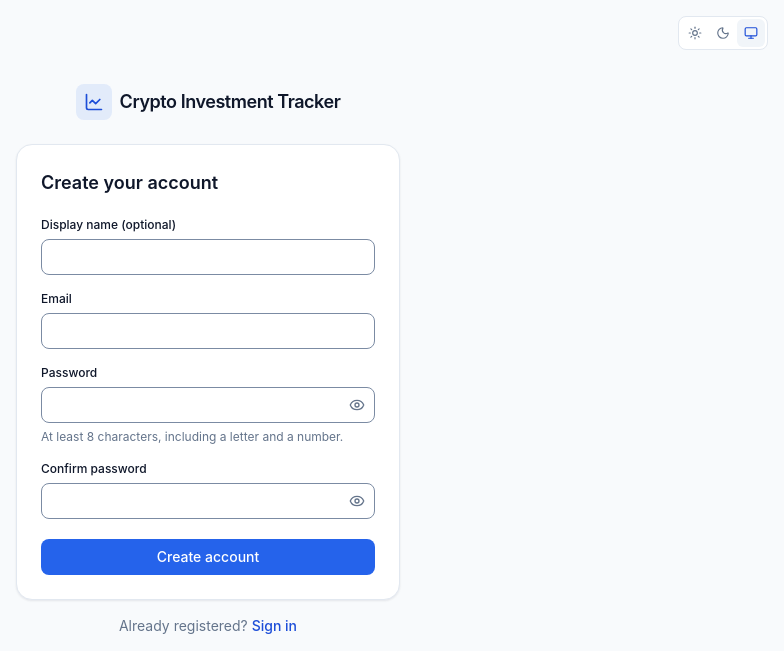
Test case: registration and password reset › registers and asks the user to confirm their email
This screenshot has width=784, height=651.
Type "new@example.com" into the field labelled "Email" at point(208, 331), box top-left (41, 313), bottom-right (375, 349)
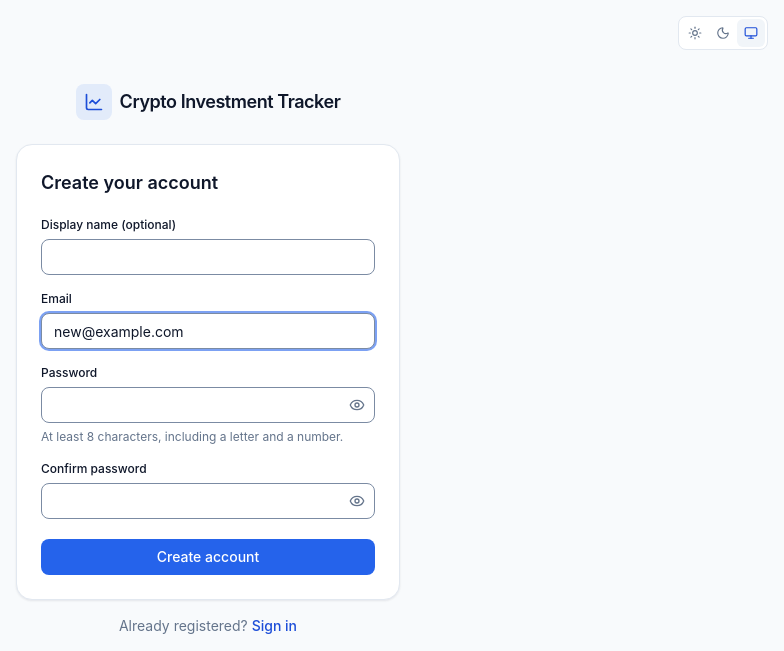
Type "abcdefg1" into the password field labelled "Password" at point(208, 405), box top-left (41, 387), bottom-right (375, 423)
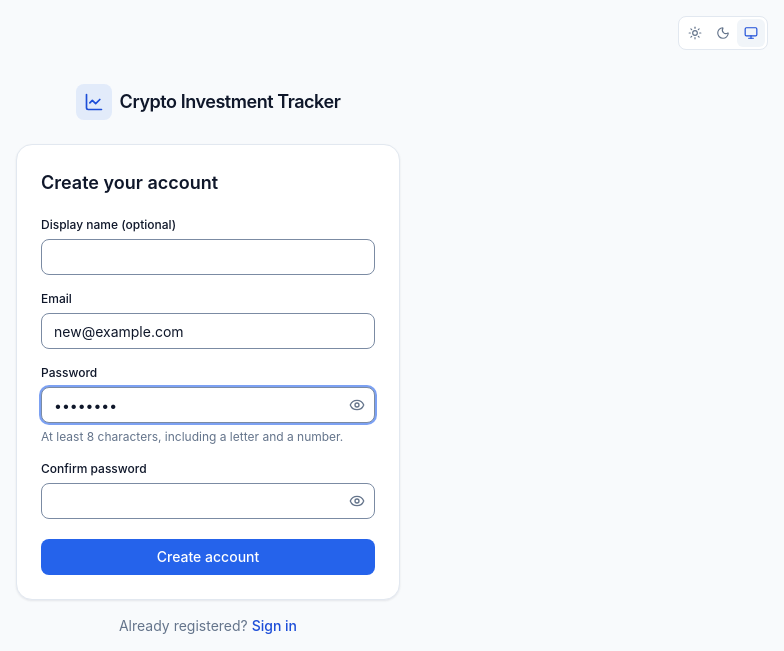
Type "abcdefg1" into the password field labelled "Confirm password" at point(208, 501), box top-left (41, 483), bottom-right (375, 519)
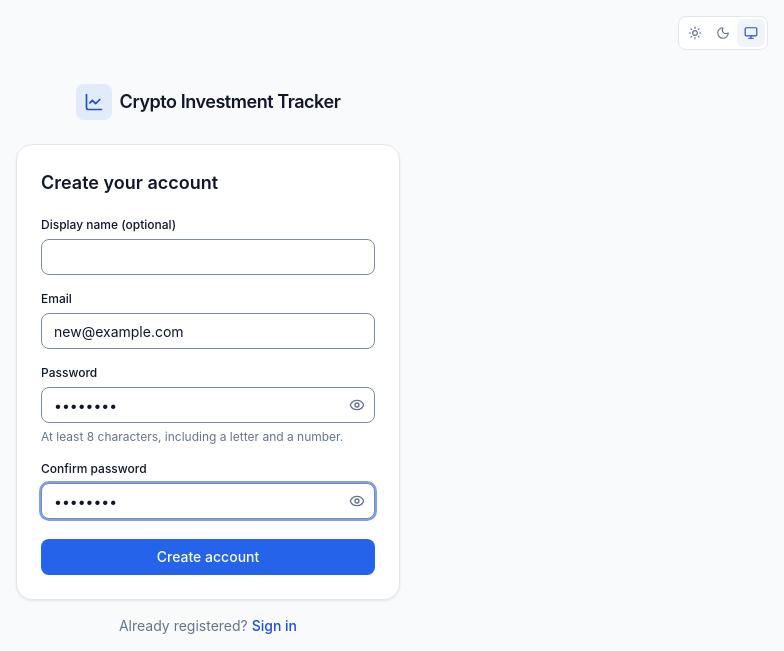
Click the button "Create account" at point(208, 557), box top-left (41, 539), bottom-right (375, 575)
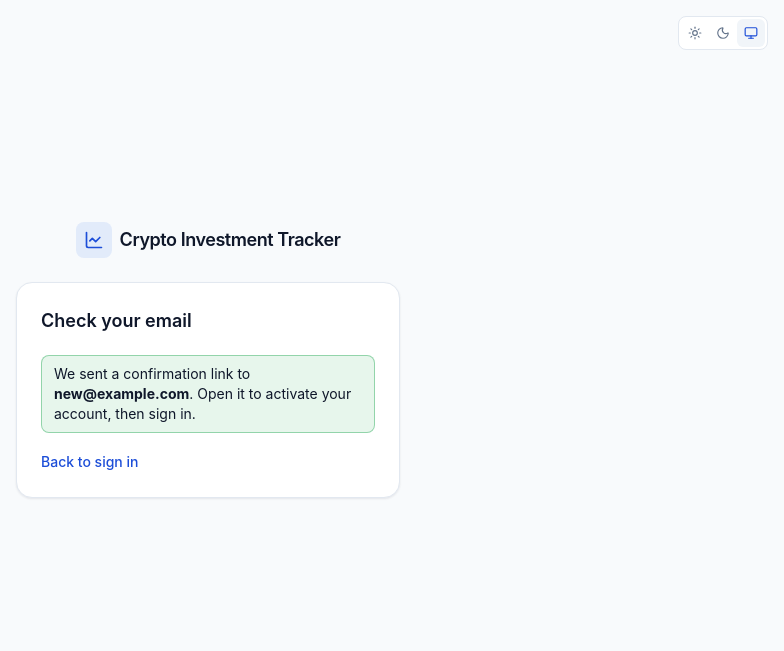
Expected: the text "We sent a confirmation link" is shown, top-left (54, 365), bottom-right (250, 382)
